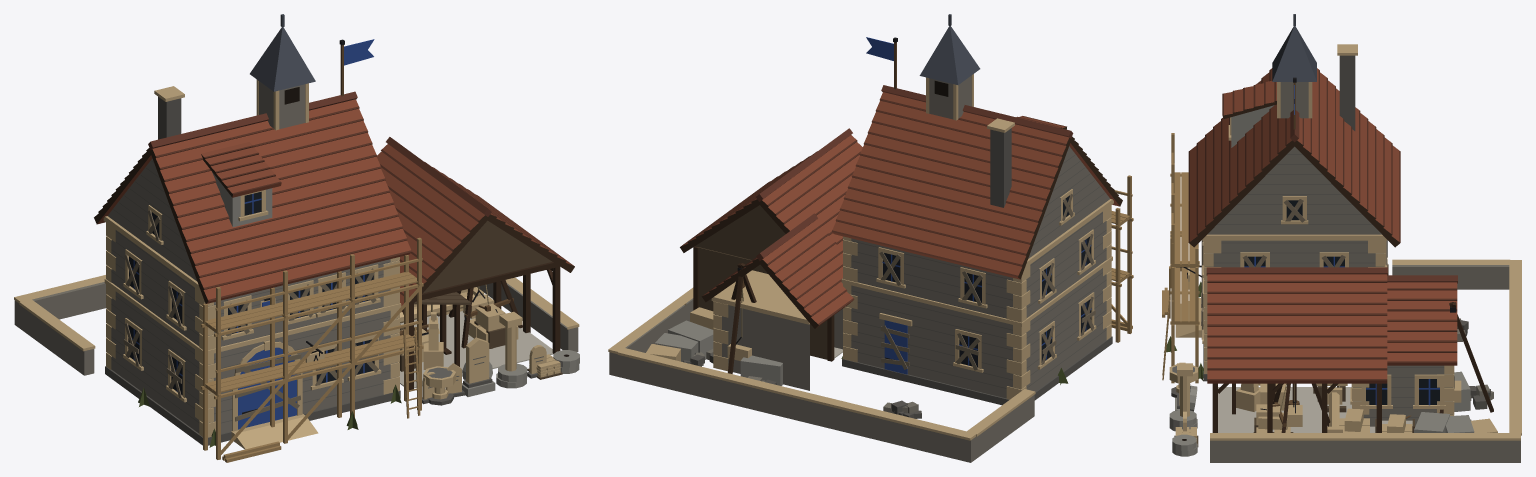
The model's file is steinmetz.glb.
The picture shows the model from 3 angles, left to right: view 1: azimuth 30°, elevation 25°; view 2: azimuth 150°, elevation 25°; view 3: azimuth 270°, elevation 25°; orthographic projection. The views are drawn at different scales.
Parts seen in each view (by area): view 1: Haus, Stufe3, Geruest, Stufe1, Stufe2, Leerstand, Fahne; view 2: Haus, Stufe3, Stufe1, Stufe2, Leerstand, Geruest, Fahne; view 3: Stufe3, Haus, Stufe1, Stufe2, Geruest, Leerstand.
Part boxes in pixels (x1,y1,x2,y2): Haus: [94, 86, 411, 449]; Stufe3: [250, 14, 579, 405]; Geruest: [201, 237, 423, 462]; Stufe1: [14, 275, 579, 404]; Stufe2: [201, 142, 522, 362]; Leerstand: [123, 210, 401, 447]; Fahne: [339, 39, 374, 96]; Haus: [831, 85, 1122, 405]; Stufe3: [610, 14, 980, 418]; Stufe1: [608, 287, 1035, 462]; Stufe2: [654, 116, 1066, 390]; Leerstand: [841, 193, 1095, 384]; Geruest: [1111, 175, 1133, 342]; Fahne: [866, 37, 897, 89]; Stufe3: [1169, 14, 1520, 462]; Haus: [1175, 44, 1400, 381]; Stufe1: [1169, 259, 1521, 462]; Stufe2: [1222, 81, 1493, 432]; Geruest: [1162, 133, 1199, 383]; Leerstand: [1164, 198, 1388, 380].
Size of the model in its own units: 16 by 14.06 by 13.62.
